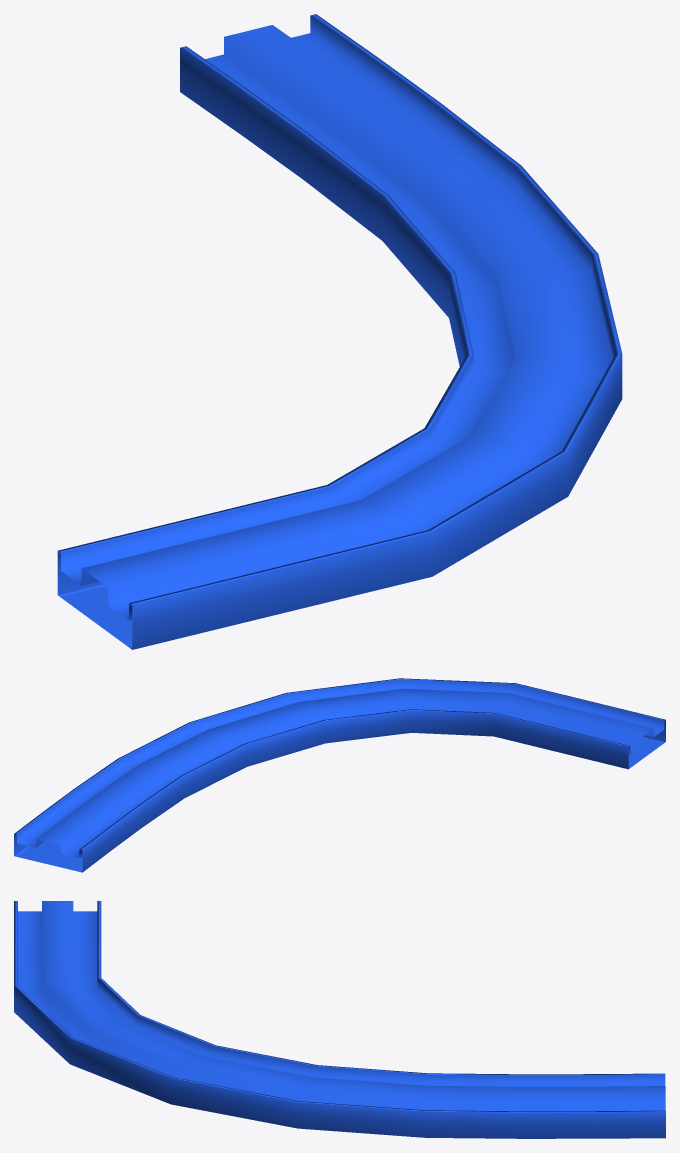
Rendered from curve rail.fbx.
3 renders of one model, top to bottom at view 1: azimuth 30°, elevation 25°; view 2: azimuth 150°, elevation 25°; view 3: azimuth 270°, elevation 25°, orthographic. The views are drawn at different scales.
Parts seen in each view (by area): view 1: polySurface172; view 2: polySurface172; view 3: polySurface172.
Part boxes in pixels (x1=…): polySurface172: x1=57, y1=14, x2=622, y2=649; polySurface172: x1=14, y1=678, x2=665, y2=872; polySurface172: x1=14, y1=901, x2=665, y2=1138.
Bounding box in the file's own units: 6.81 × 0.3878 × 8.85.
